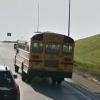Bus: (12, 32, 78, 81)
